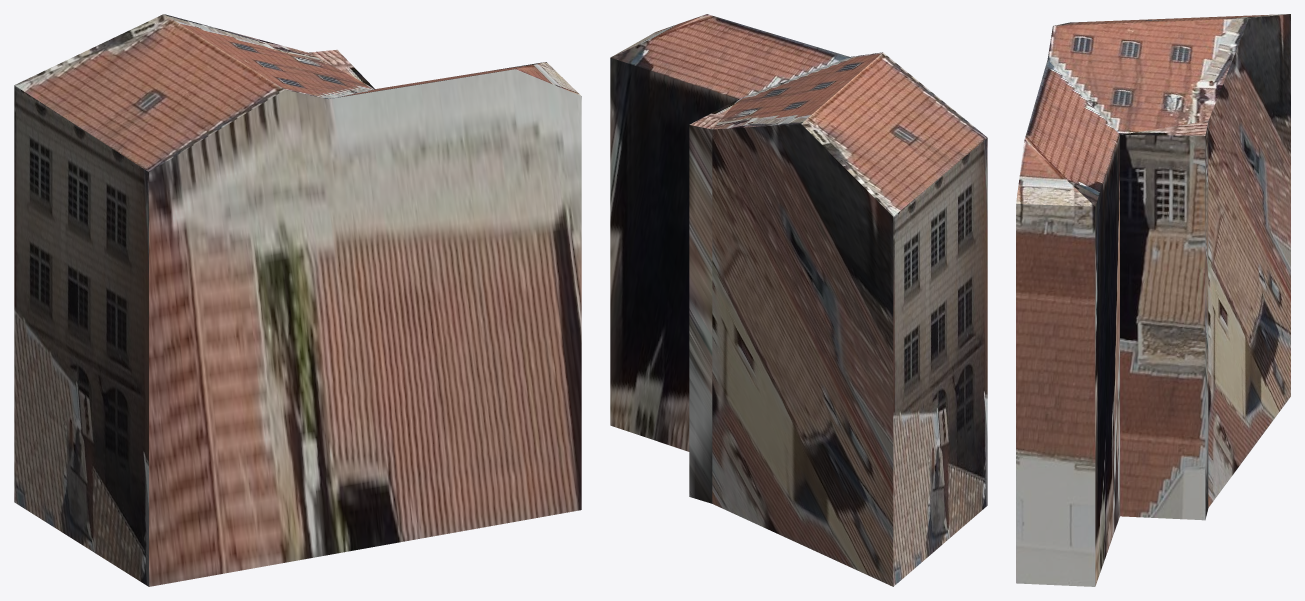
3 views of the same model, side by side, from view 1: azimuth 30°, elevation 25°; view 2: azimuth 150°, elevation 25°; view 3: azimuth 270°, elevation 25° (orthographic). The views are drawn at different scales.
Parts seen in each view (by area): view 1: Z_UP; view 2: Z_UP; view 3: Z_UP.
Part boxes in pixels (box(x1,y1,x2,y2)): Z_UP: box(14, 14, 581, 586); Z_UP: box(610, 14, 987, 586); Z_UP: box(1016, 14, 1290, 586).
Size of the model in its own units: 19.18 by 20.42 by 11.7.
Materials: 2 (1 with a texture image).
